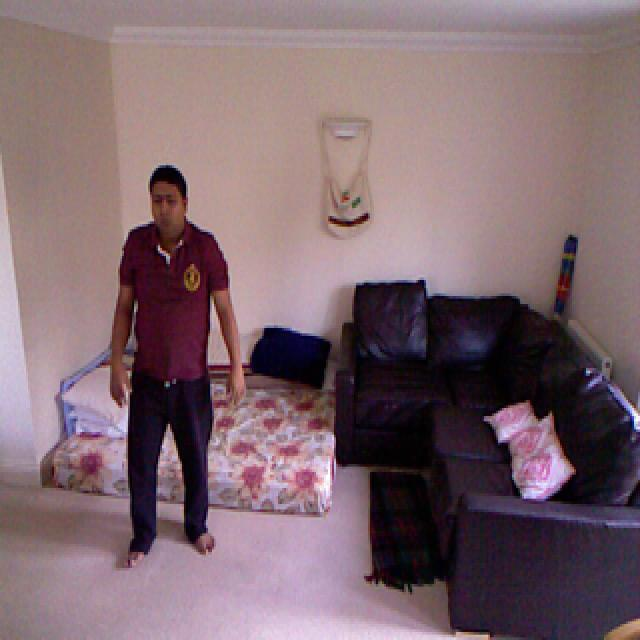NotFall: (96, 159, 259, 593)
